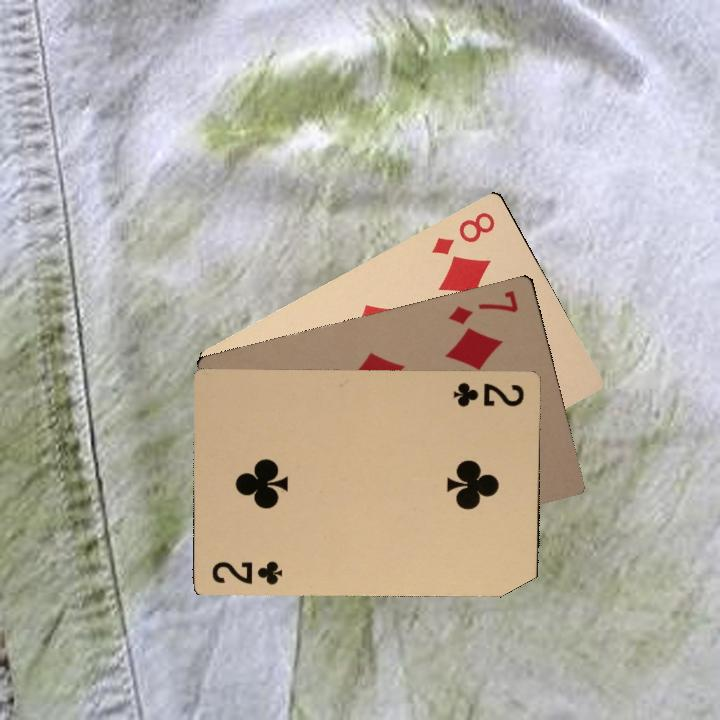2c: (449, 378, 527, 409), (207, 557, 284, 588)
7d: (444, 286, 521, 327)
8d: (427, 207, 498, 258)
